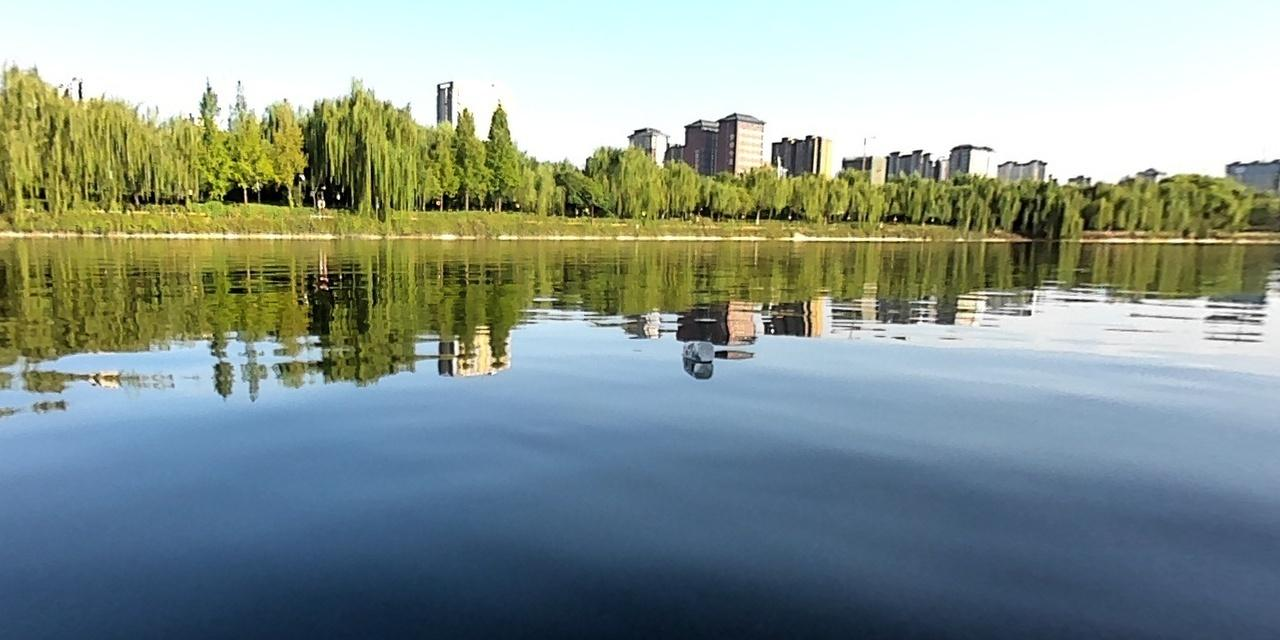bottle: (677, 337, 717, 365)
